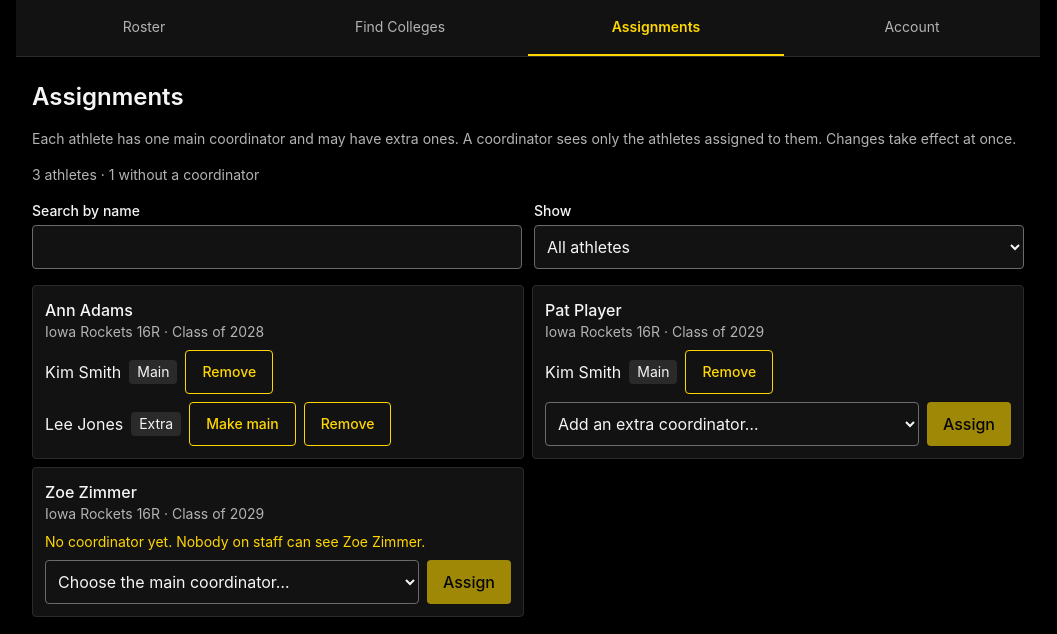
Test case: Assignments (administrator) › shows only the athletes without a coordinator, and finds by name
Expected: the list named "Athletes" is shown, 32,285 -> 1024,617
Select "Only athletes without a coordinator" in the dropdown labelled "Show" at coordinates (779, 247), box 534,225 -> 1024,269
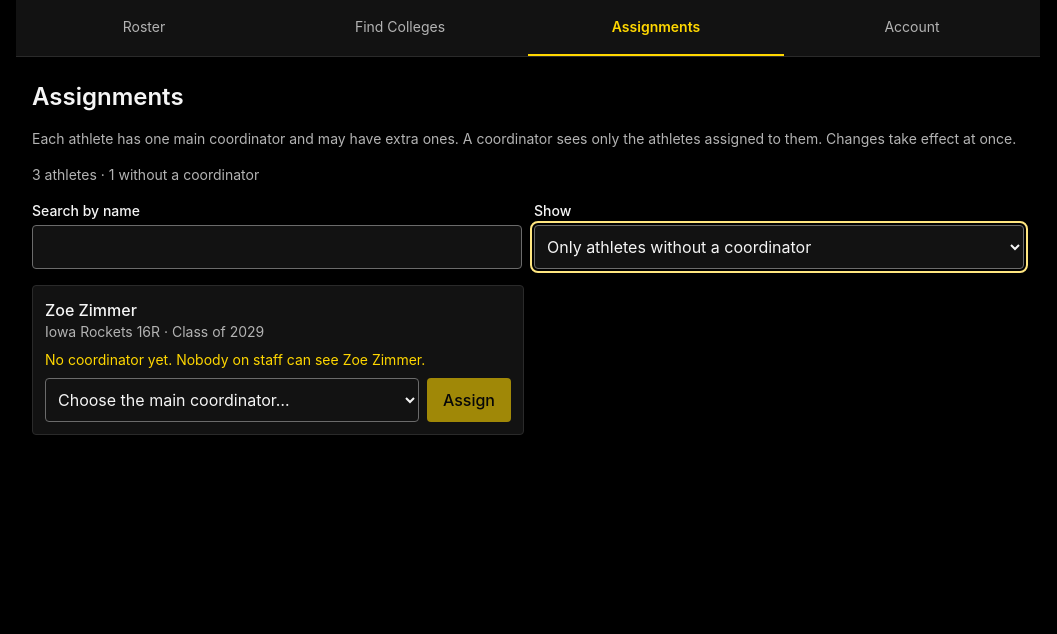
Select "All athletes" in the dropdown labelled "Show" at coordinates (779, 247), box 534,225 -> 1024,269
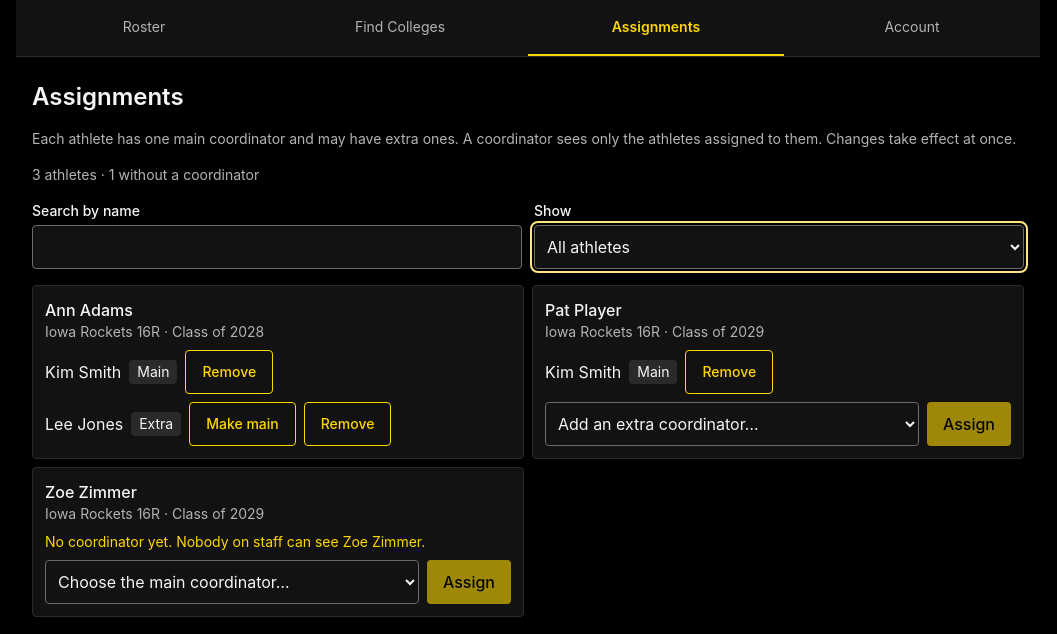
Type "pa" into the search field labelled "Search by name".
click(277, 247); type("pa")  # box 32,225 -> 522,269
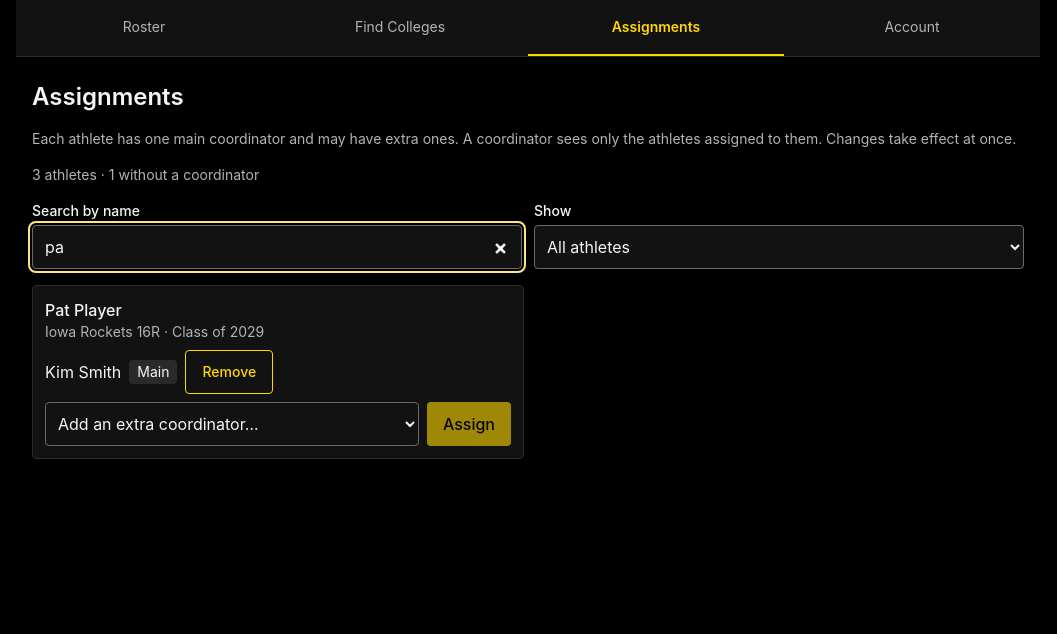
Replace the text in the search field labelled "Search by name" with "nobody" at coordinates (277, 247), box 32,225 -> 522,269
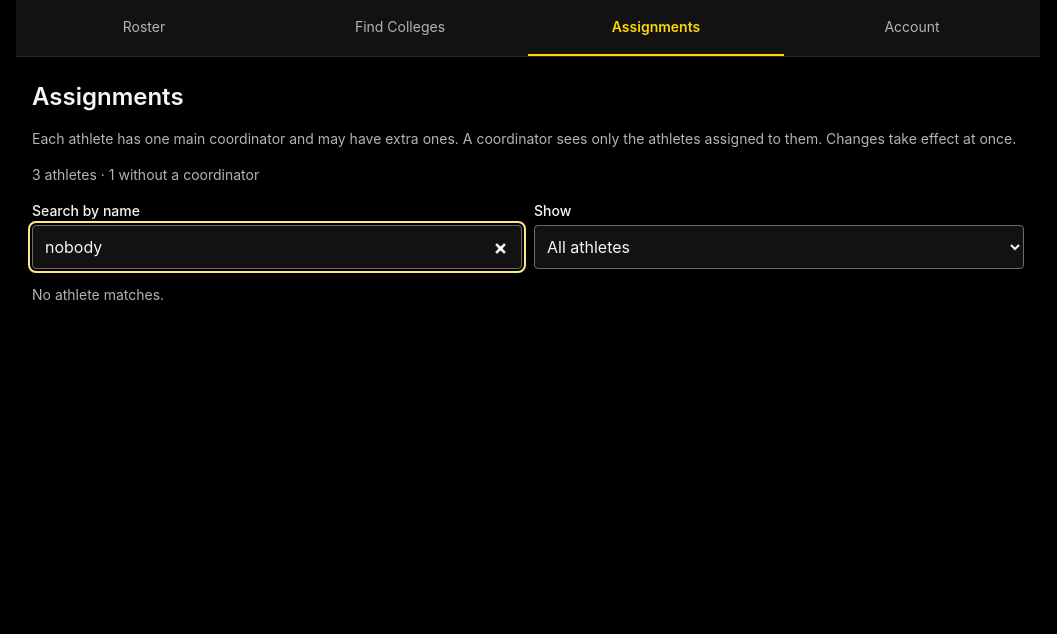
Expected: the text "No athlete matches." is shown, 32,286 -> 164,303
